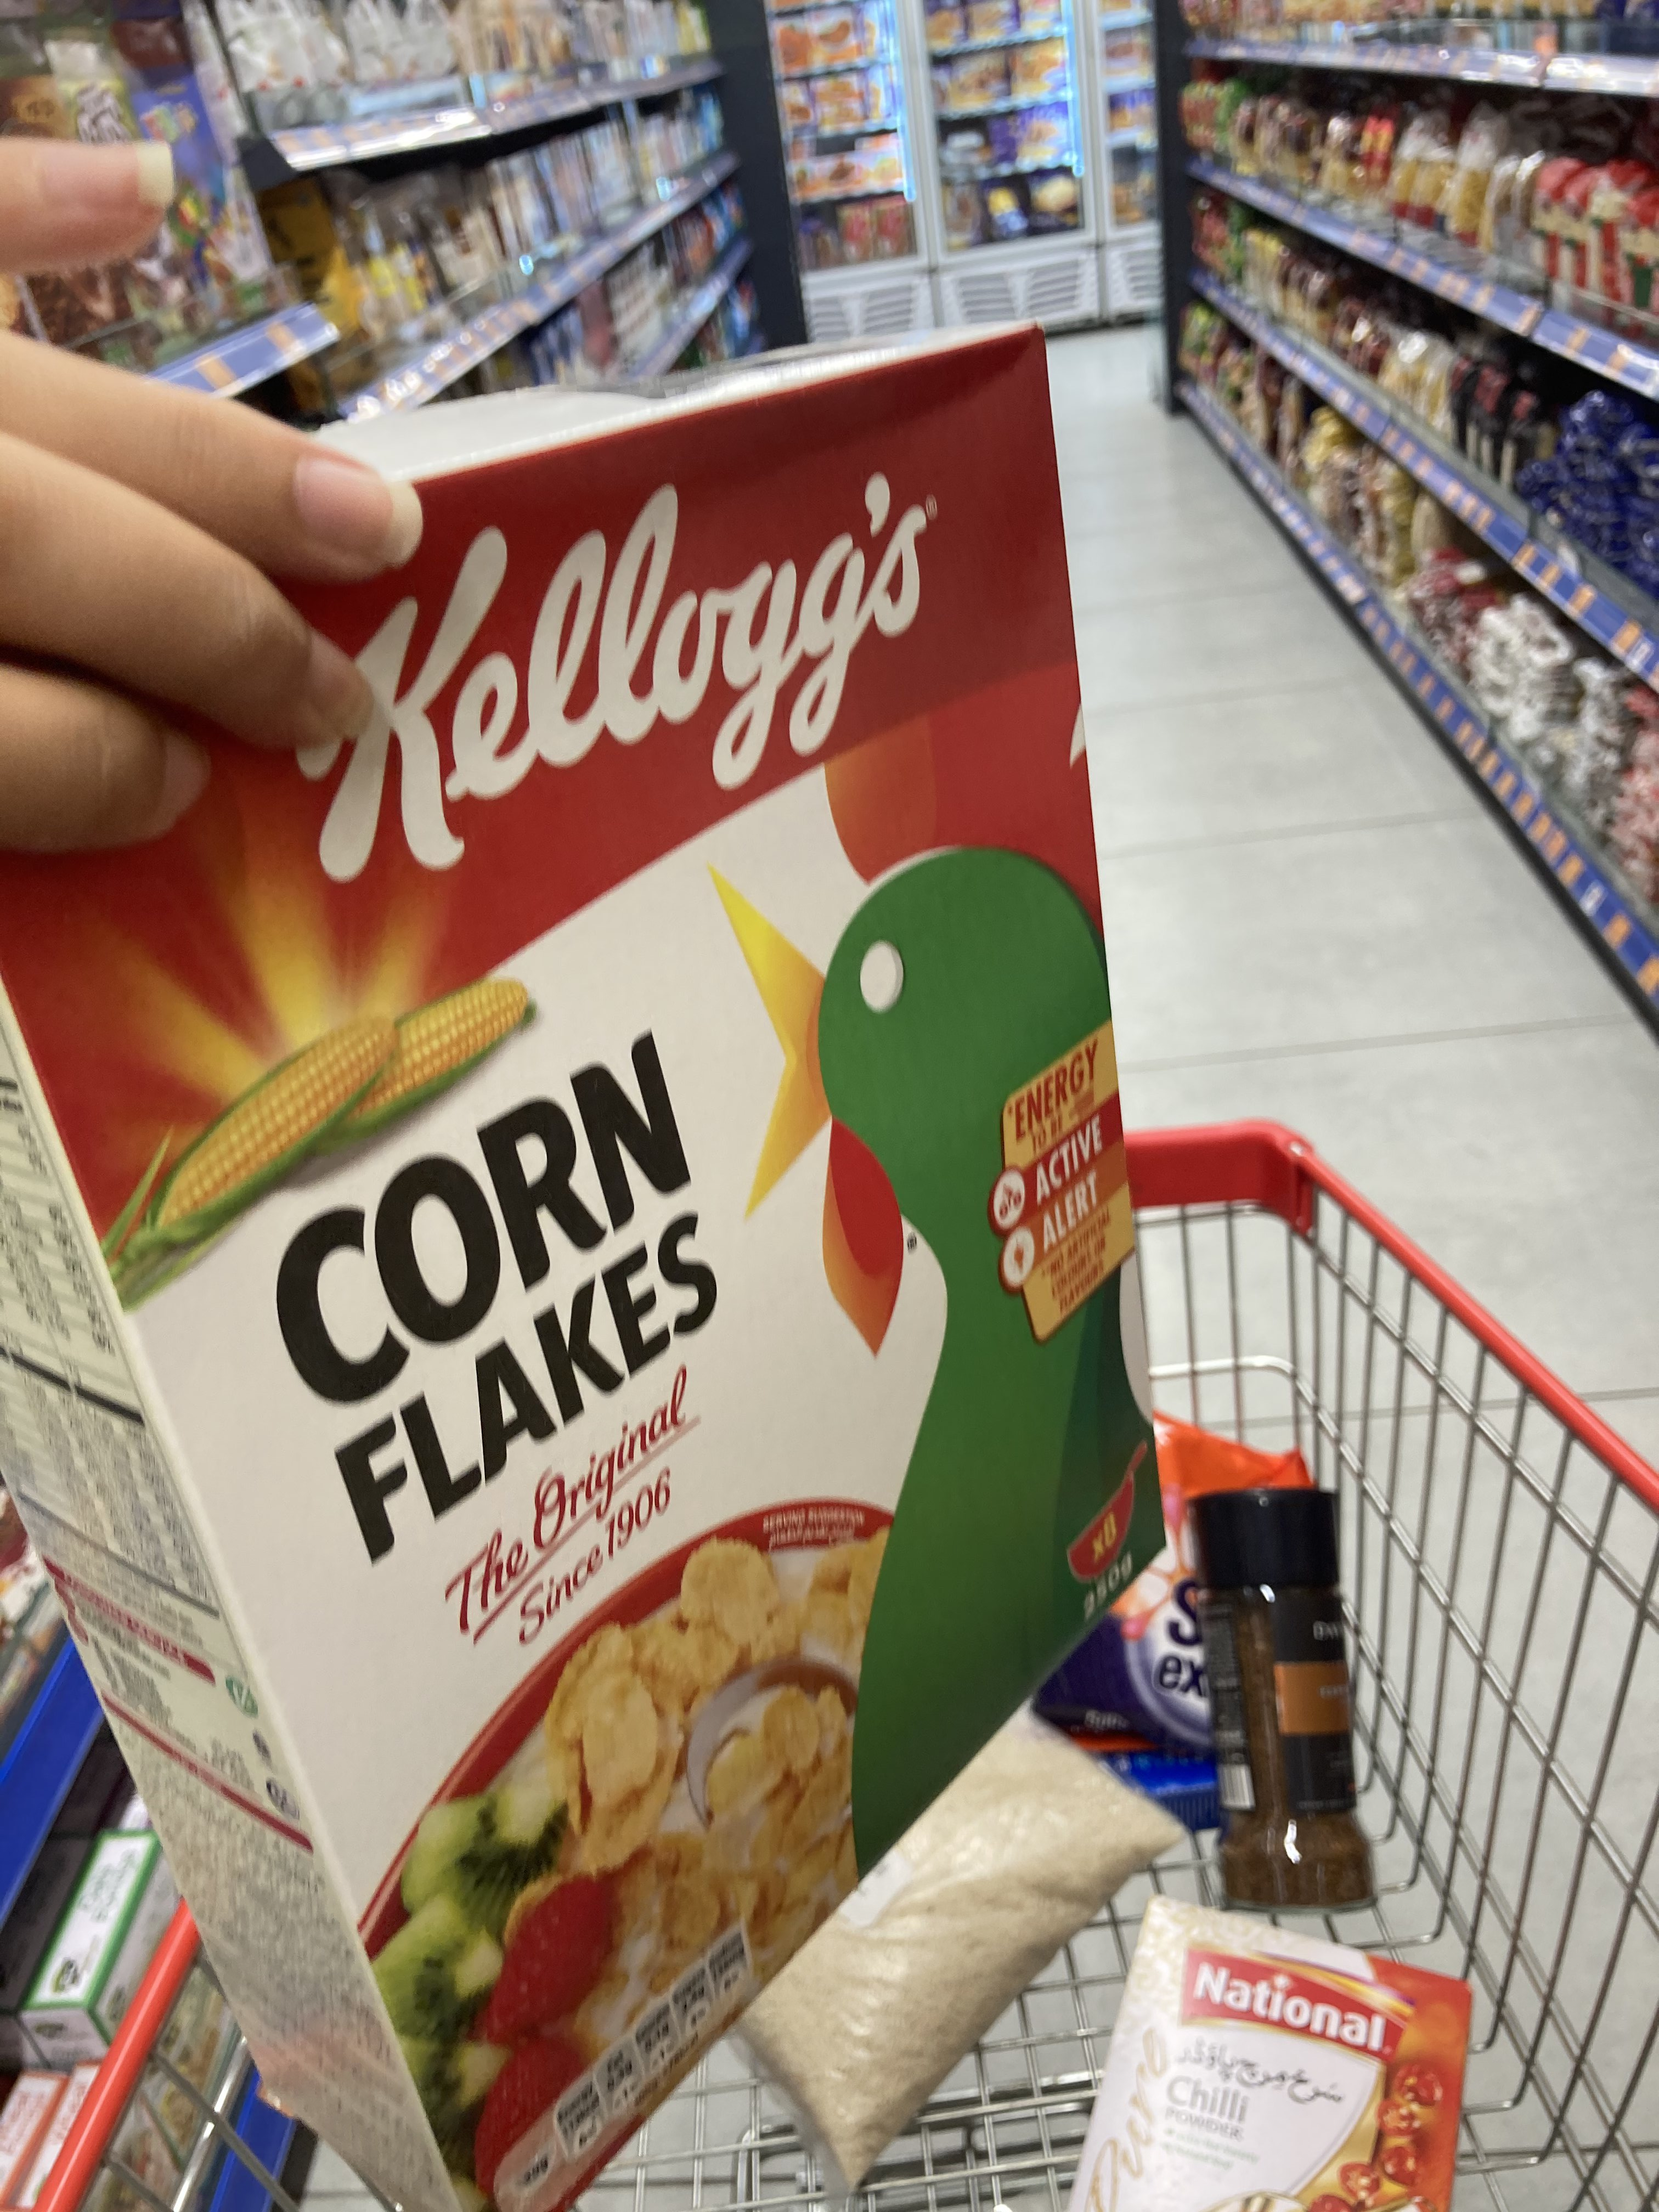Kellogg's Corn Flakes: (9, 320, 1175, 2207)
